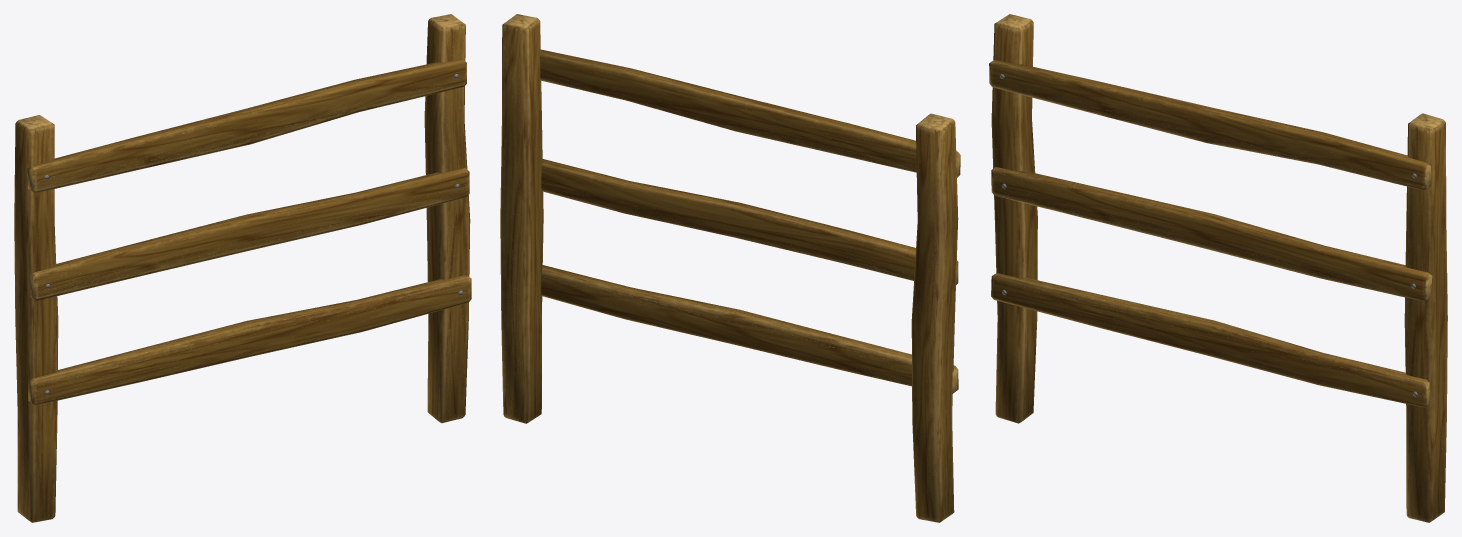
Rendered from Fence_Var3_2.fbx.
3 views of the same model, side by side, from view 1: azimuth 30°, elevation 25°; view 2: azimuth 150°, elevation 25°; view 3: azimuth 330°, elevation 25° (orthographic).
Visible parts, largest first — view 1: Fence_Var3_2_LOD0; view 2: Fence_Var3_2_LOD0; view 3: Fence_Var3_2_LOD0.
Boxes of the visible parts, left/top/right/bottom form: Fence_Var3_2_LOD0: left=14, top=14, right=471, bottom=522; Fence_Var3_2_LOD0: left=500, top=14, right=960, bottom=522; Fence_Var3_2_LOD0: left=989, top=14, right=1447, bottom=522.
Bounding box in the file's own units: 152 × 13.02 × 130.
Materials: 1 (1 with a texture image).
